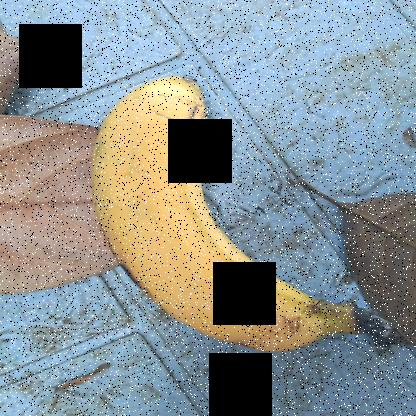freshripe: (70, 53, 335, 362)
